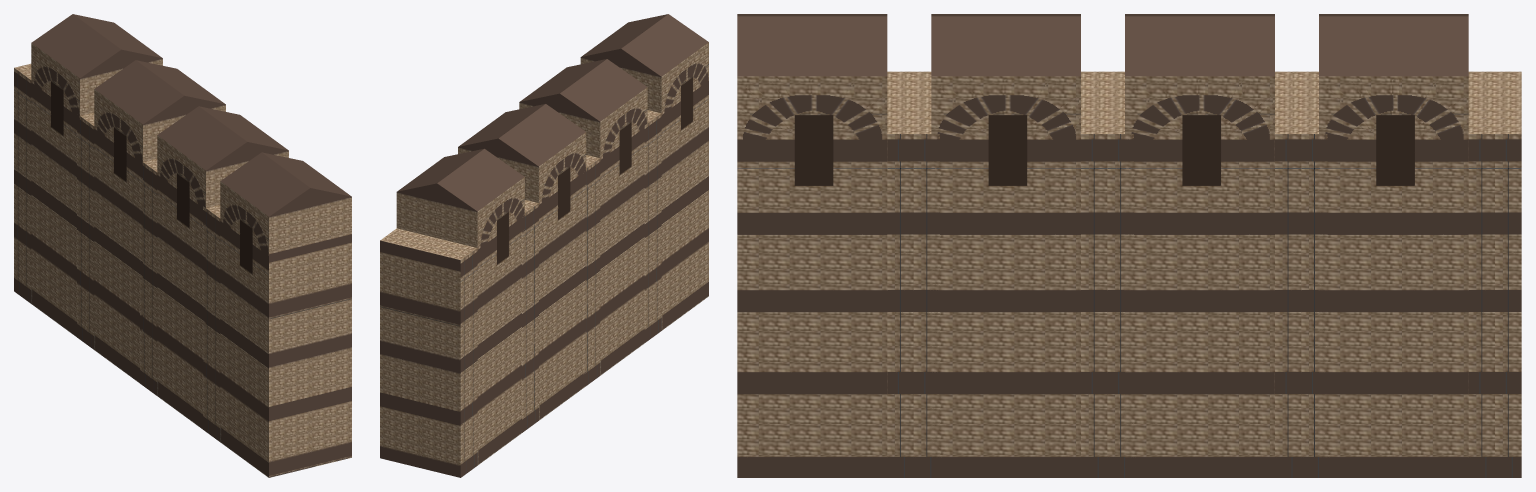
The model's file is Persian_wall.fbx.
3 renders of one model, left to right at view 1: azimuth 30°, elevation 25°; view 2: azimuth 150°, elevation 25°; view 3: azimuth 270°, elevation 25°, orthographic. The views are drawn at different scales.
Parts seen in each view (by area): view 1: Cube_002; view 2: Cube_002; view 3: Cube_002.
Part boxes in pixels (left/top/right/bottom): Cube_002: left=14, top=14, right=351, bottom=477; Cube_002: left=380, top=14, right=708, bottom=477; Cube_002: left=737, top=14, right=1521, bottom=477.
Size of the model in its own units: 1.97 by 6.34 by 10.47.
Materials: 1 (1 with a texture image).
